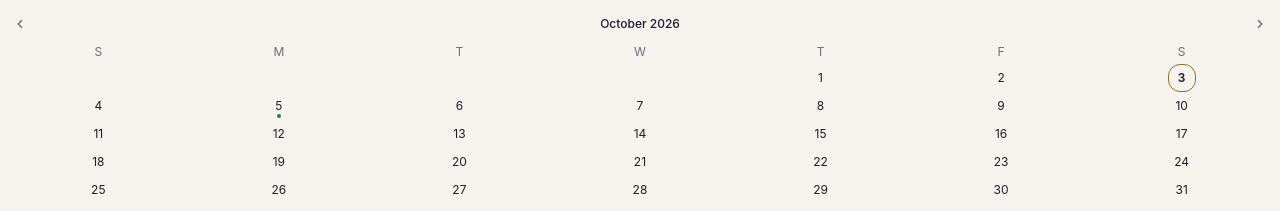
Test: DailyNotesCalendar › moves between months in both directions
The image size is (1280, 211).
Step 1. Click the button named "Next month" → click(1260, 24), box [1248,12,1272,36]
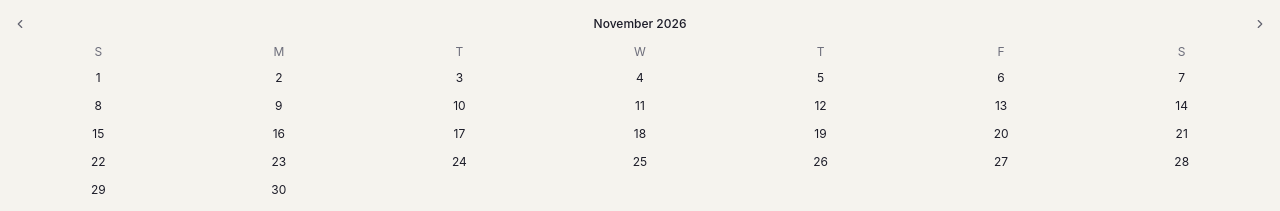
Expected: the text "November 2026" is shown, [594,16,686,32]
Step 2. Click the button named "Previous month" → click(20, 24), box [8,12,32,36]
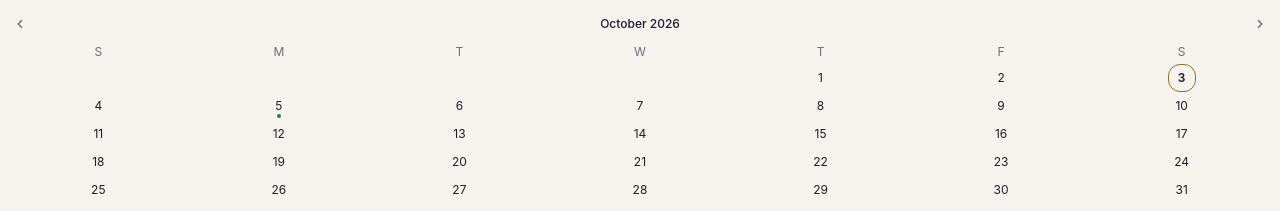
Step 3. Click the button named "Previous month" → click(20, 24), box [8,12,32,36]
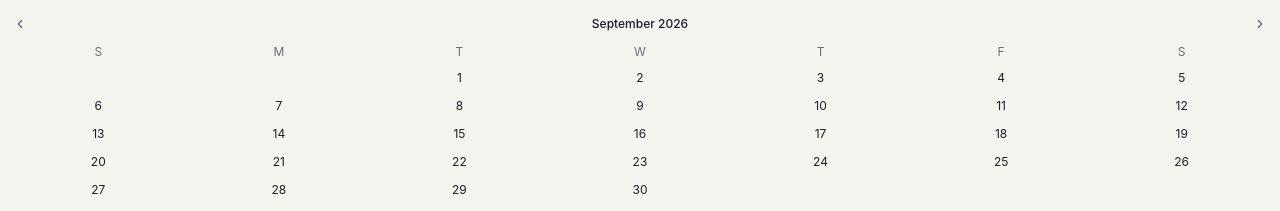
Expected: the text "September 2026" is shown, [592,16,688,32]
